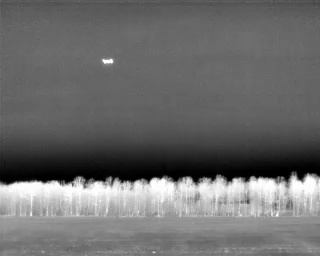DRONE: (98, 54, 118, 70)
